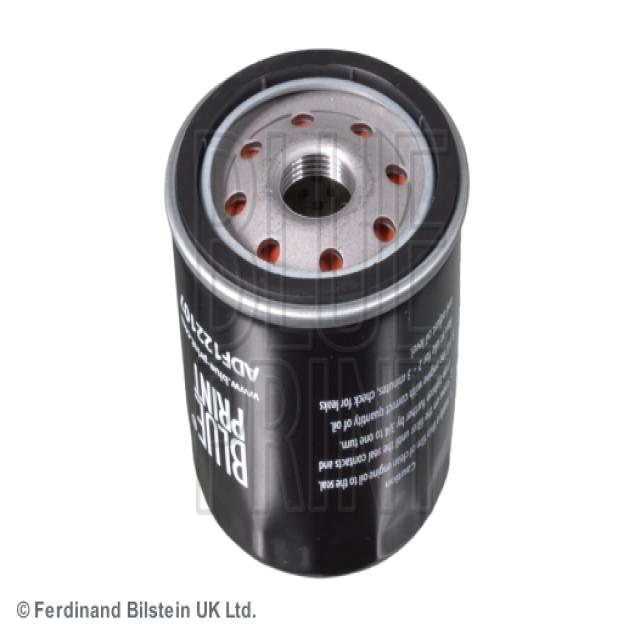oil_filter: (165, 34, 464, 576)
